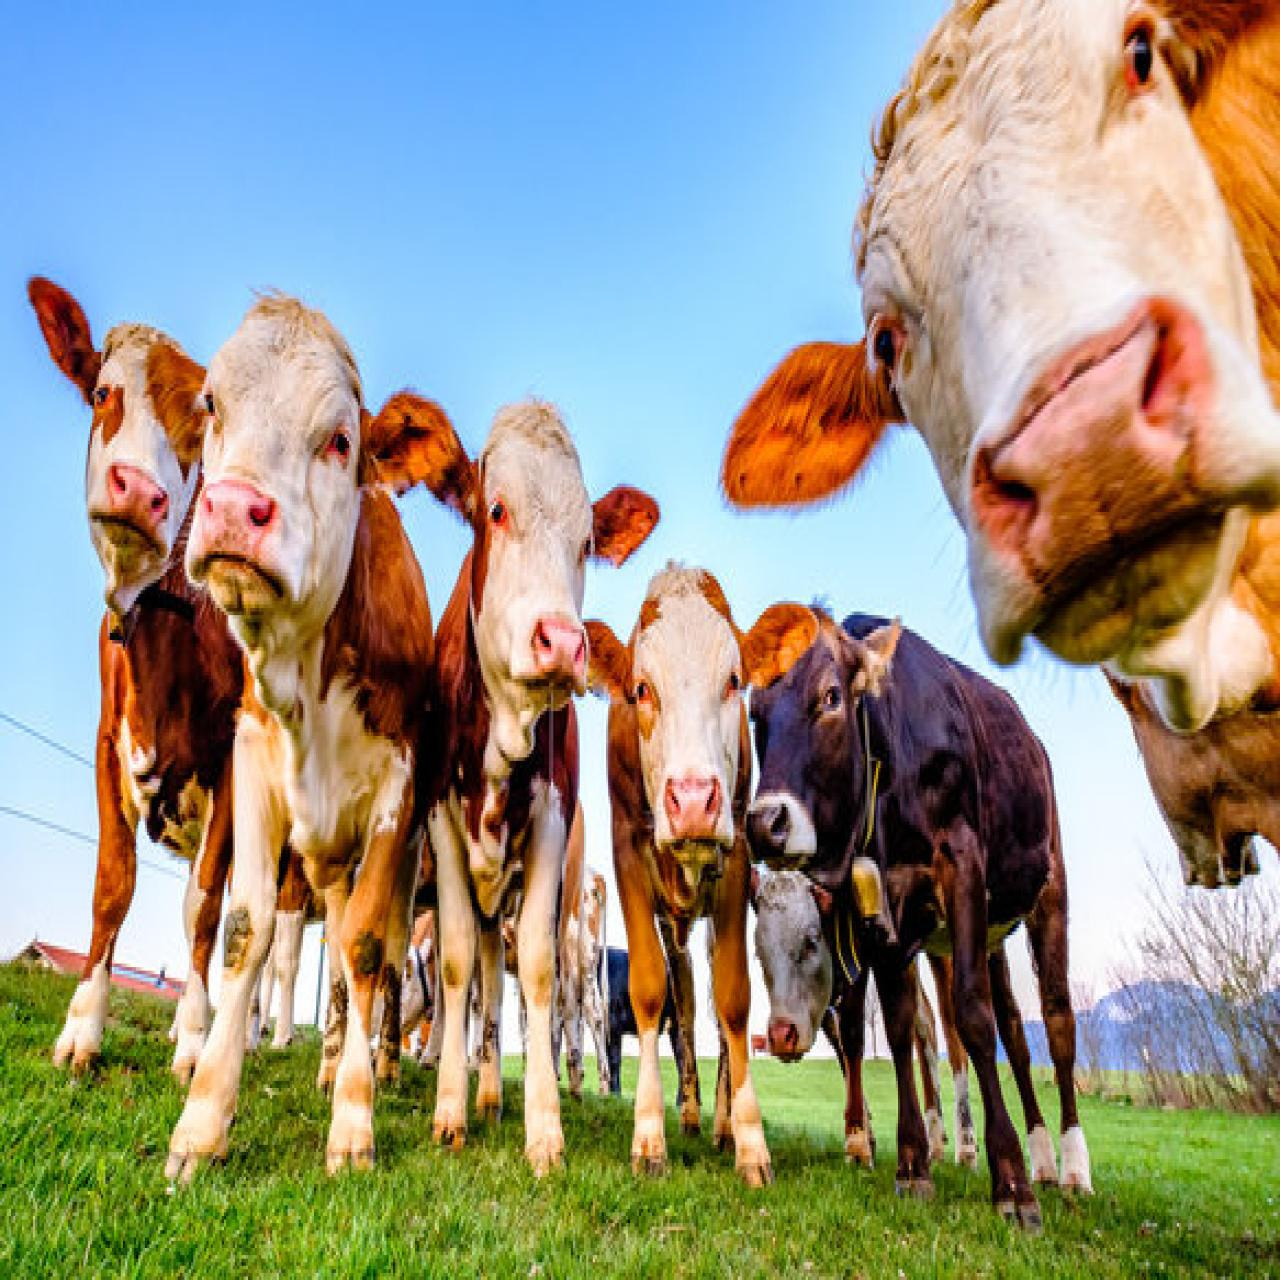cow: (720, 0, 1280, 1253), (177, 291, 452, 1191), (14, 230, 307, 1070), (745, 590, 1089, 1221), (404, 387, 662, 1217), (598, 572, 818, 1238), (737, 844, 980, 1201)
